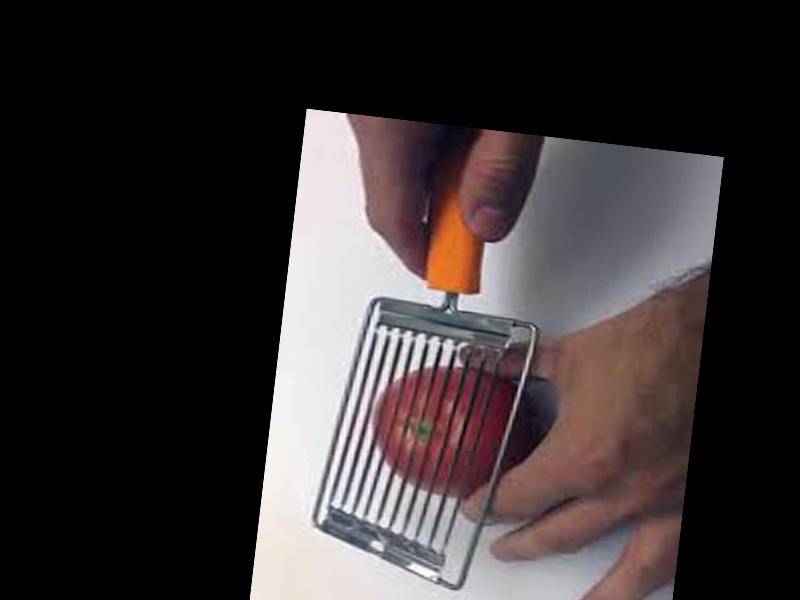Tomato: (366, 355, 540, 502)
